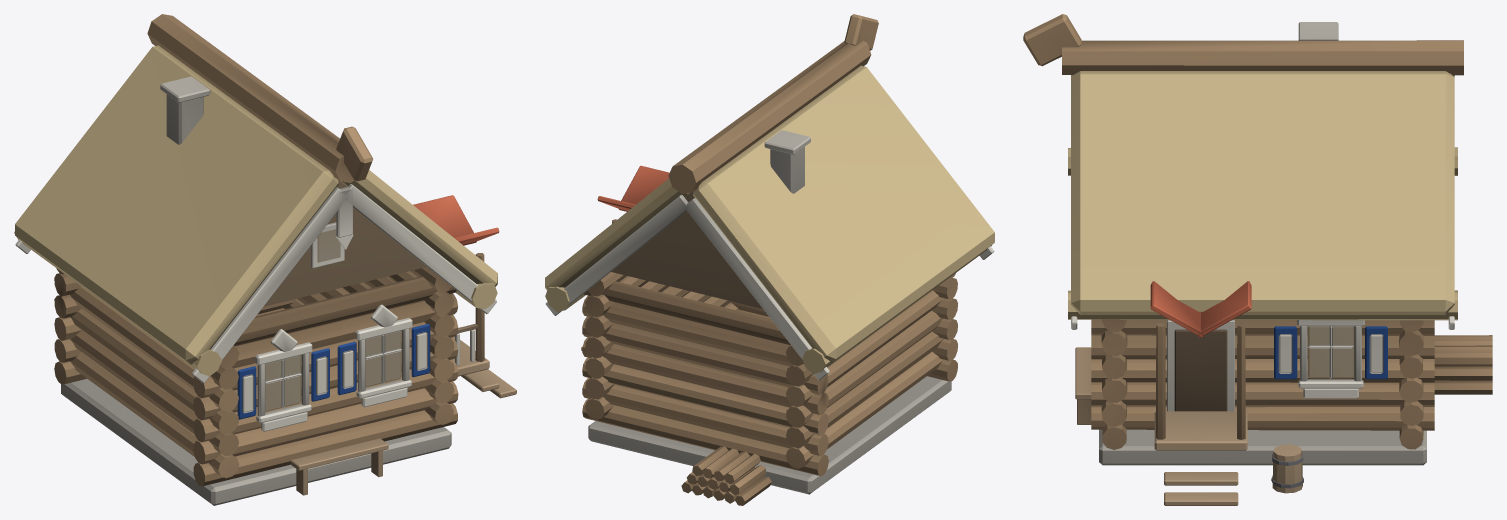
File: bld_izba.glb
3 renders of one model, left to right at view 1: azimuth 30°, elevation 25°; view 2: azimuth 150°, elevation 25°; view 3: azimuth 270°, elevation 25°, orthographic. The views are drawn at different scales.
Parts seen in each view (by area): view 1: izba; view 2: izba; view 3: izba.
Part boxes in pixels (x1=…): izba: x1=14, y1=14, x2=516, y2=505; izba: x1=545, y1=14, x2=994, y2=505; izba: x1=1023, y1=14, x2=1492, y2=505.
Bounding box in the file's own units: 1.48 × 1.38 × 1.52.
